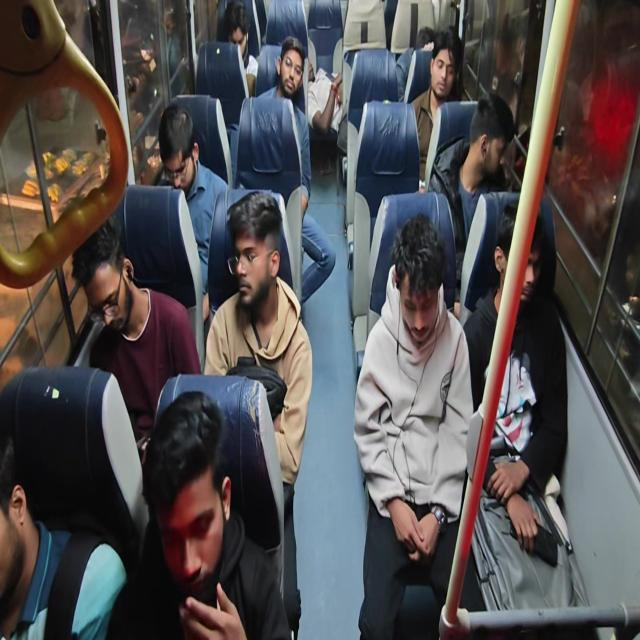person: (140, 391, 233, 640), (64, 220, 172, 426), (0, 406, 78, 640), (478, 224, 578, 348), (222, 202, 288, 308), (164, 114, 218, 236), (384, 253, 449, 334), (304, 41, 344, 135), (470, 109, 507, 196), (439, 32, 469, 98), (214, 24, 244, 88), (412, 28, 452, 59), (279, 40, 300, 86)
